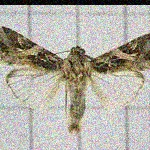Spodoptera litura: (0, 25, 149, 134)
